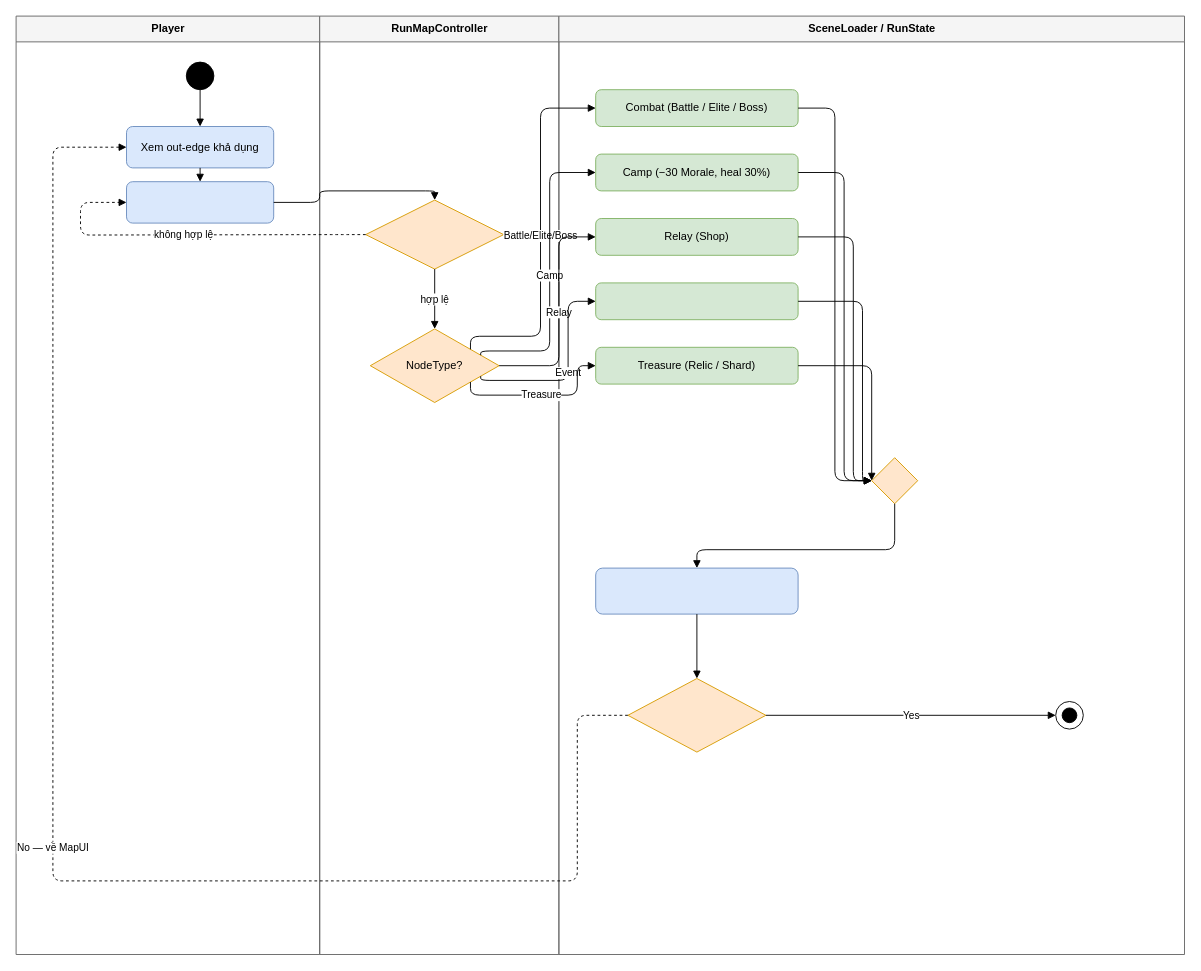
Image size: 1201x971. Some labels were removed from this diagram. Each missing label, with the centre of its shape:
"Boss clear?" goes at (696,715).
"Chọn node kề (không backtrack)" goes at (200,202).
"Event (choice)" goes at (696,301).
"Mark visited; cập nhật RunState" goes at (696,590).
"Out-edge hợp lệ?" goes at (434,234).
